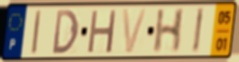D: (51, 8, 80, 56)
H: (151, 7, 187, 55), (86, 8, 119, 56)
I: (191, 6, 206, 56), (30, 8, 44, 57)
V: (121, 8, 150, 56)
